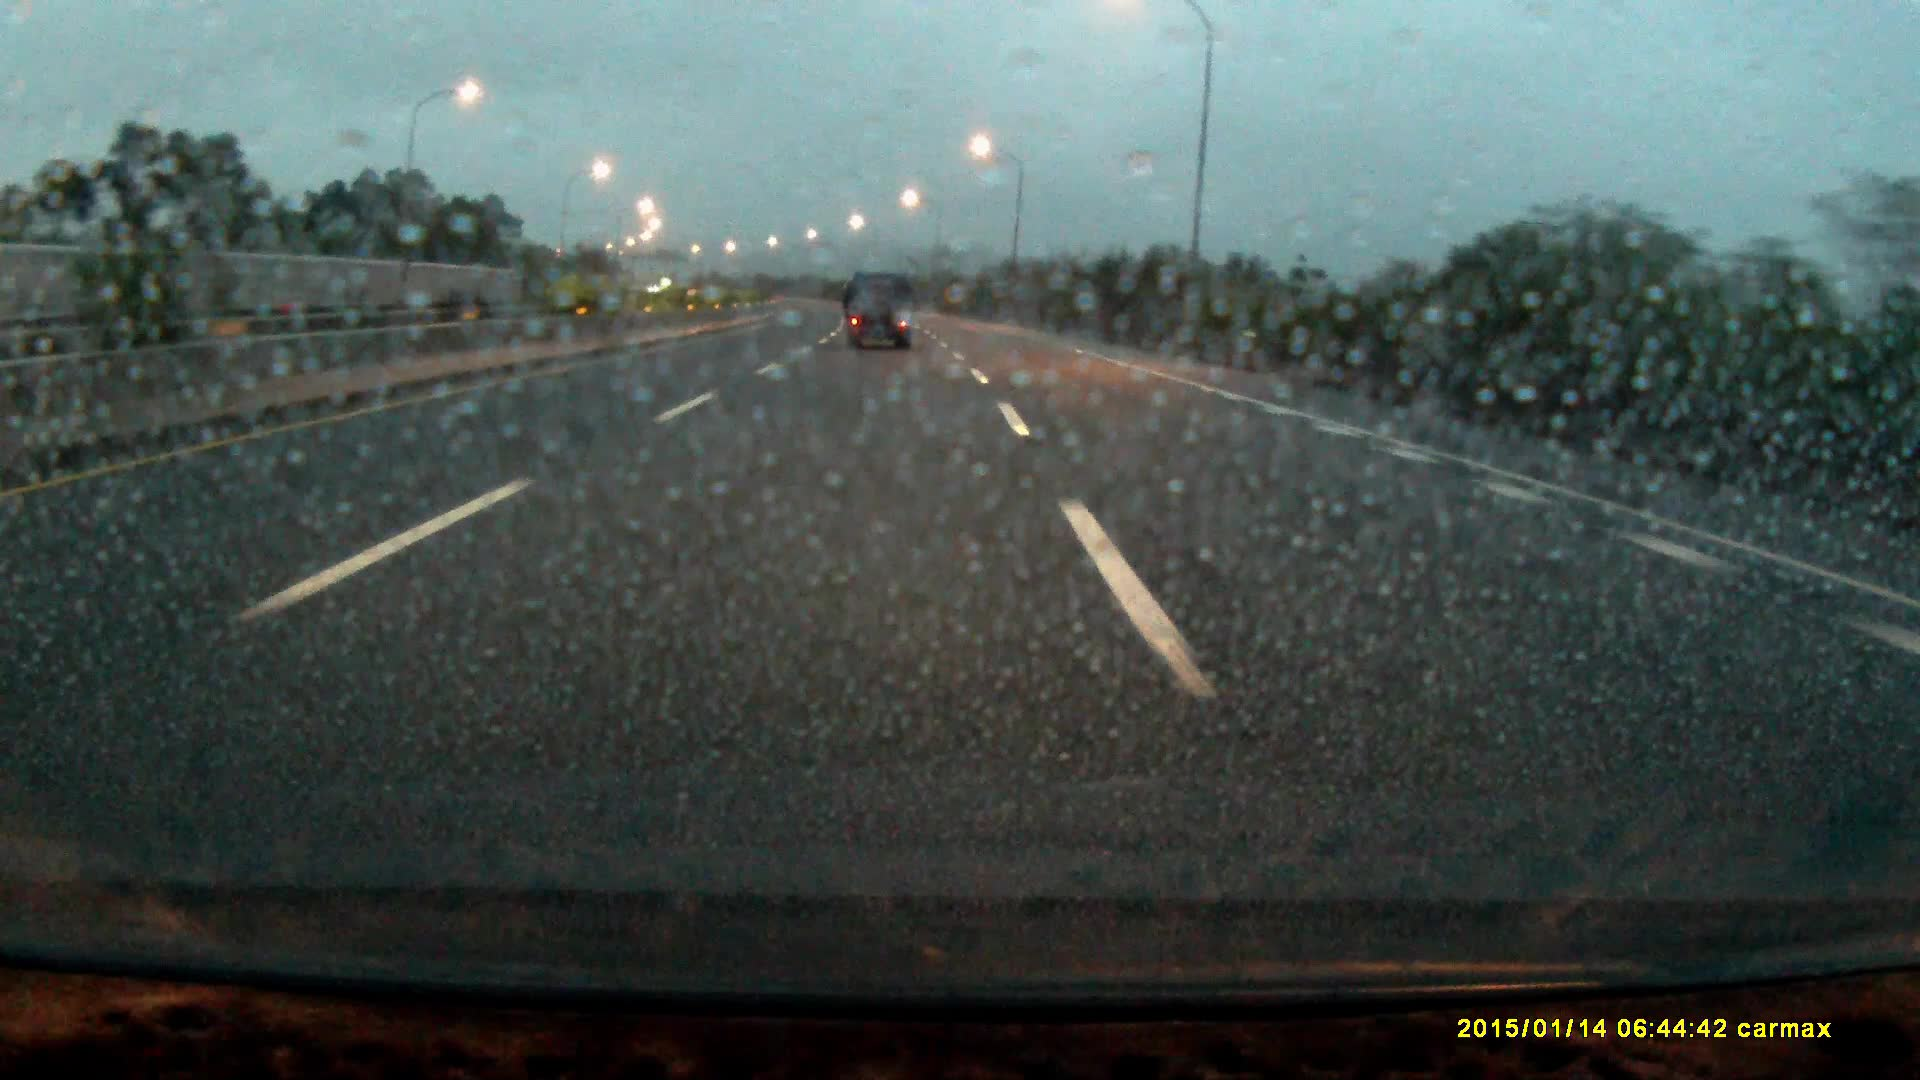vehicle: (847, 272, 913, 355)
